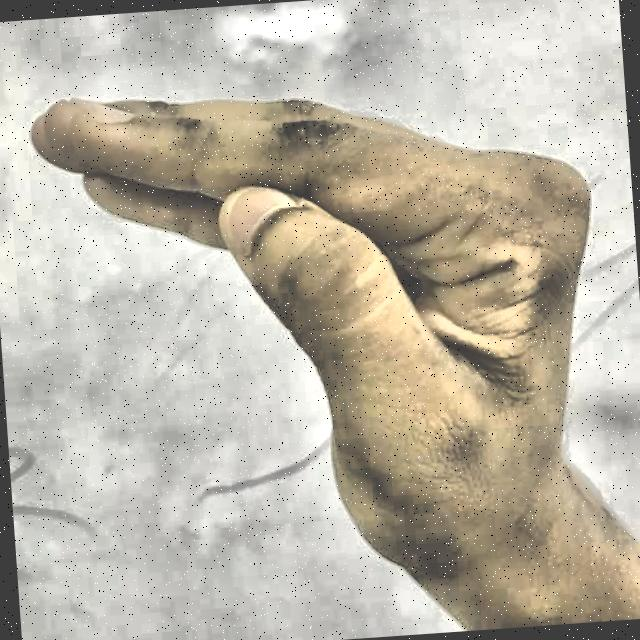Ga: (11, 22, 634, 611)
